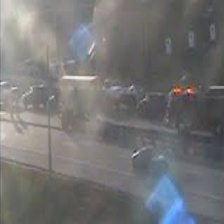smoke: (3, 2, 181, 53)
